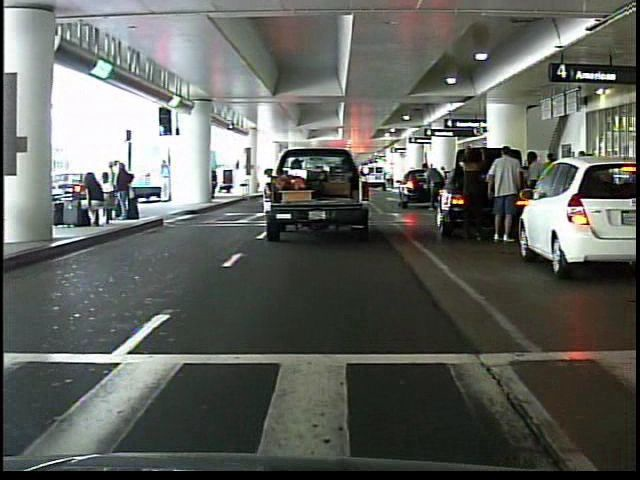person: (454, 139, 490, 244), (485, 143, 521, 244), (520, 145, 546, 245), (421, 158, 447, 212), (158, 157, 175, 202)
